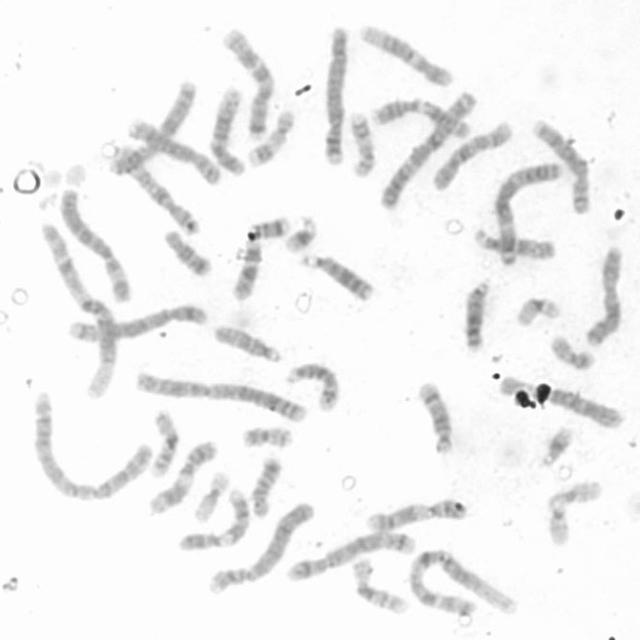A1: (36, 221, 119, 402), (405, 545, 519, 618)
A2: (30, 387, 156, 504), (131, 367, 309, 424)
A3: (375, 89, 477, 212), (490, 161, 563, 268)
B4: (204, 498, 318, 598), (320, 22, 351, 167)
B5: (283, 525, 419, 583), (64, 301, 209, 344)
C10: (114, 142, 200, 235), (428, 118, 513, 192)
C11: (146, 437, 219, 517), (366, 92, 475, 141)
C12: (355, 20, 456, 89), (206, 81, 248, 178)
C6: (57, 186, 133, 304), (496, 375, 625, 432)
C7: (218, 25, 276, 140), (229, 211, 293, 303)
C8: (124, 116, 222, 188), (528, 115, 594, 215)
C9: (174, 485, 251, 554), (364, 495, 471, 533)
D13: (298, 250, 376, 303), (461, 274, 492, 353)
D14: (415, 376, 456, 455), (284, 360, 340, 412)
D15: (469, 224, 557, 262), (210, 320, 284, 364)
E16: (349, 554, 410, 618), (146, 405, 181, 479)
E17: (243, 105, 295, 168), (345, 108, 377, 180)
E18: (160, 226, 214, 279), (247, 453, 283, 518)
F19: (190, 467, 232, 525), (512, 294, 562, 328)
F20: (548, 331, 595, 371), (238, 420, 296, 450)
G21: (536, 422, 575, 470), (280, 211, 318, 255)
G22: (545, 496, 572, 549), (556, 477, 603, 505)
X: (105, 78, 197, 178), (582, 242, 626, 348)
